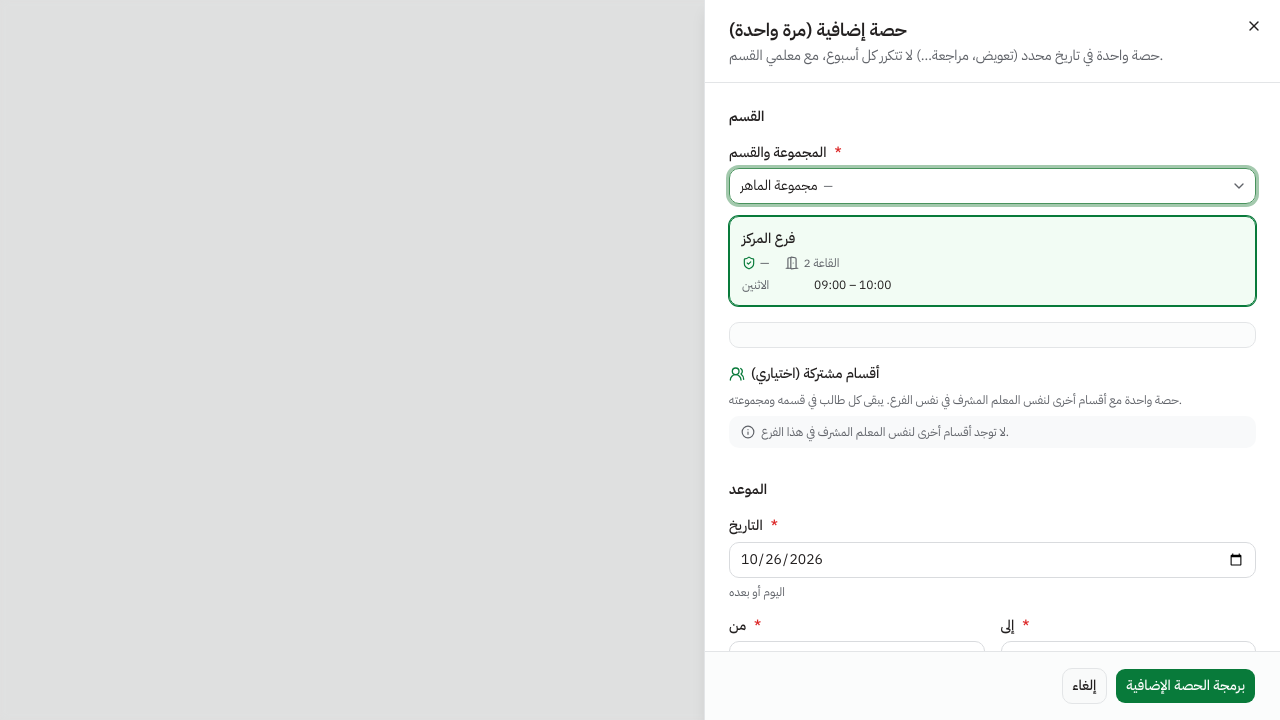
Test: «حصة إضافية (مرة واحدة)» form › shows the API's Arabic refusal (e.g. a room conflict) in the form
Click the button "برمجة الحصة الإضافية" at x=1186, y=686, box left=1115, top=668, right=1256, bottom=704
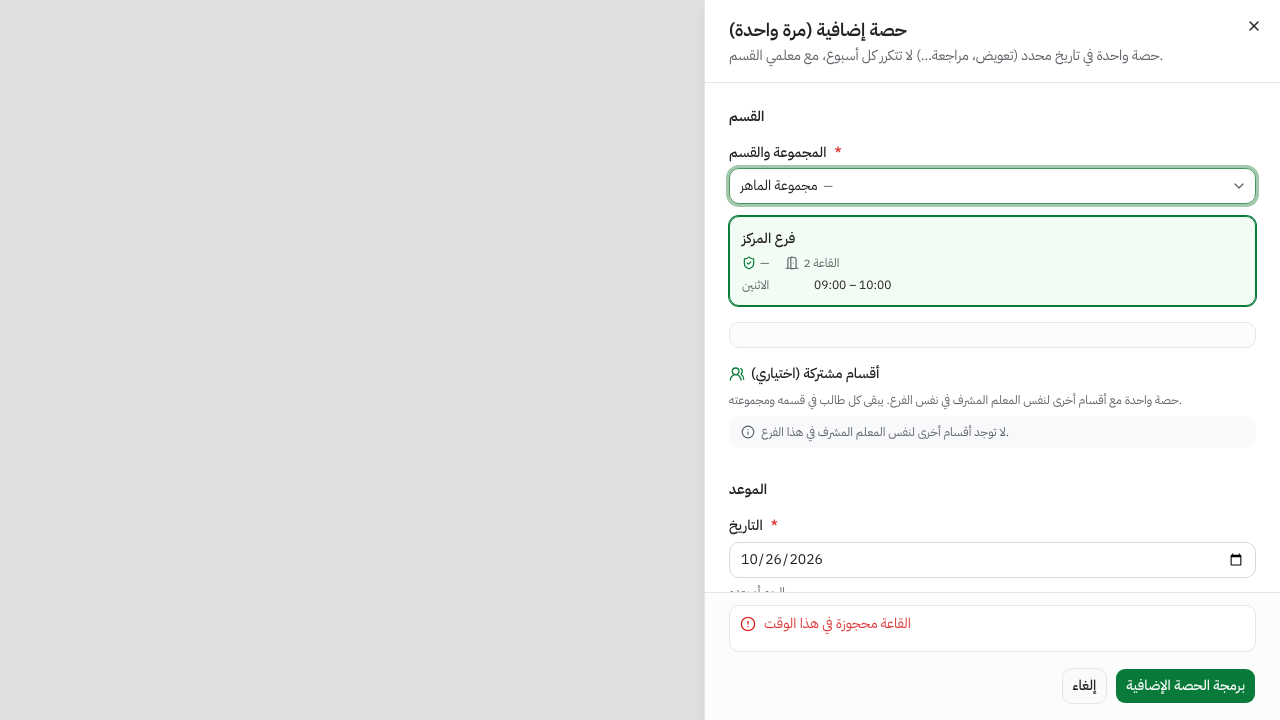
Expected: the text "القاعة محجوزة في هذا الوقت" is shown, left=764, top=613, right=911, bottom=634
